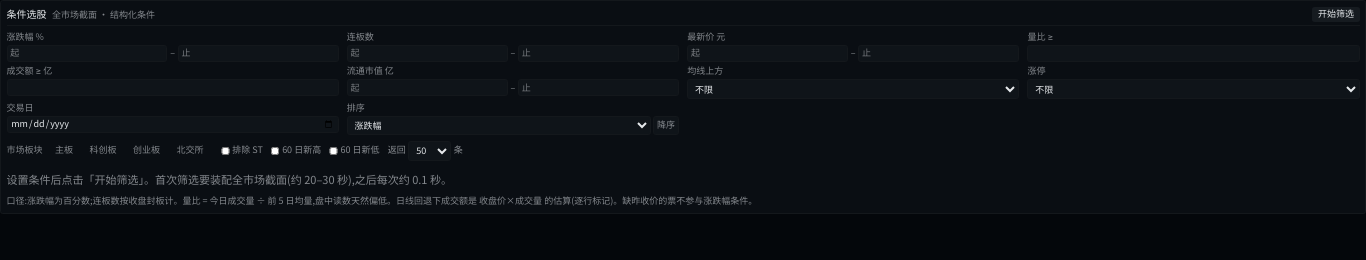
it: AshareScreenPanel › does warn when a cap filter was used but the frame was missing
Click the button with test id "screen-run". click: (1336, 14)
box: [1312, 6, 1360, 22]
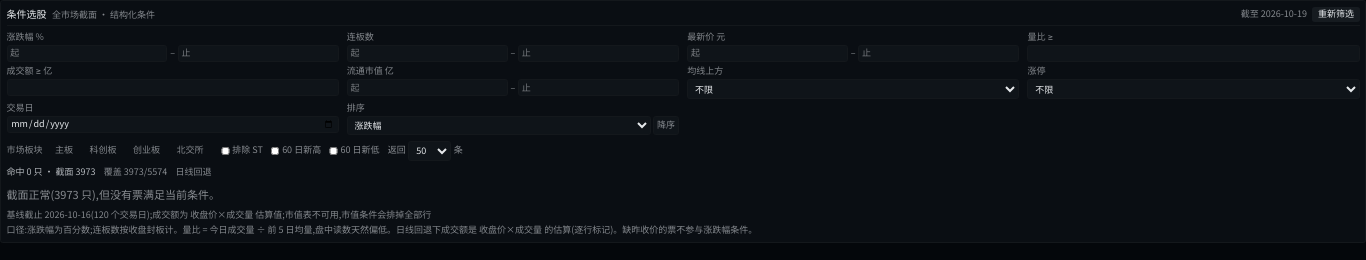
Now the button with test id "screen-run" reads "重新筛选", box [1312, 6, 1360, 22]
Now the text with test id "screen-basis" shows "市值表不可用", box [282, 208, 431, 221]
